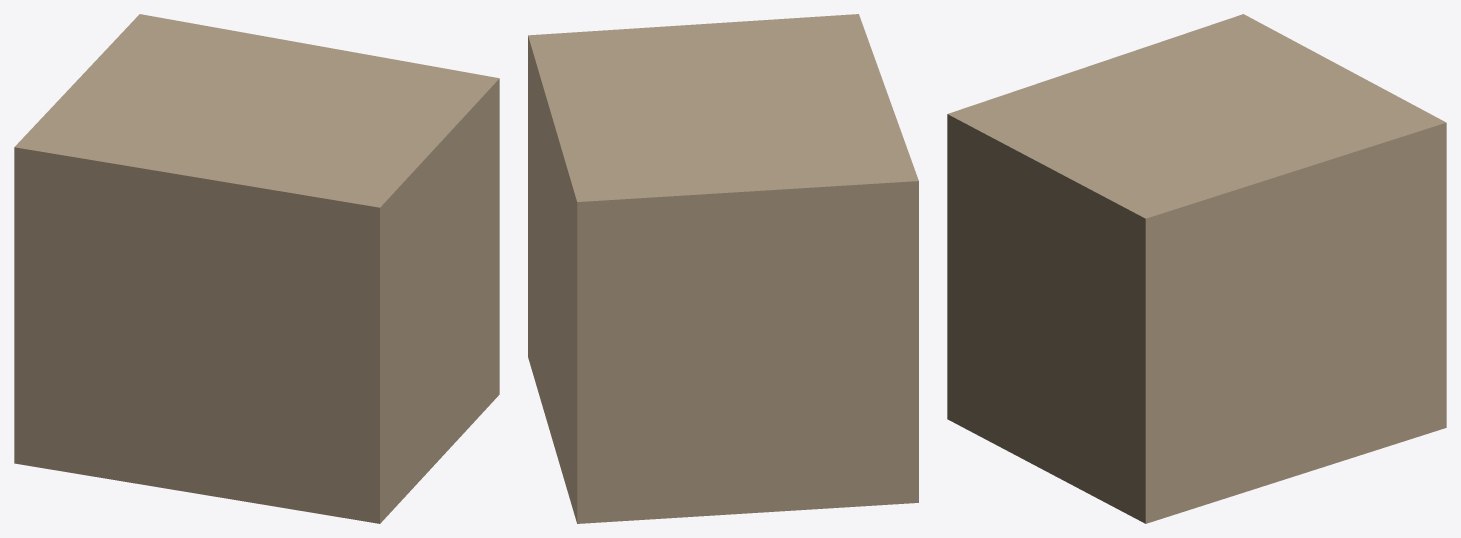
The model's file is bld_99588967.dae.
3 views of the same model, side by side, from view 1: azimuth 30°, elevation 25°; view 2: azimuth 150°, elevation 25°; view 3: azimuth 270°, elevation 25° (orthographic). The views are drawn at different scales.
Visible parts, largest first — view 1: bld_99588967; view 2: bld_99588967; view 3: bld_99588967.
Boxes of the visible parts, left/top/right/bottom form: bld_99588967: left=14, top=14, right=499, bottom=523; bld_99588967: left=528, top=14, right=918, bottom=523; bld_99588967: left=947, top=14, right=1446, bottom=523.
Bounding box in the file's own units: 11.51 × 11.86 × 8.
